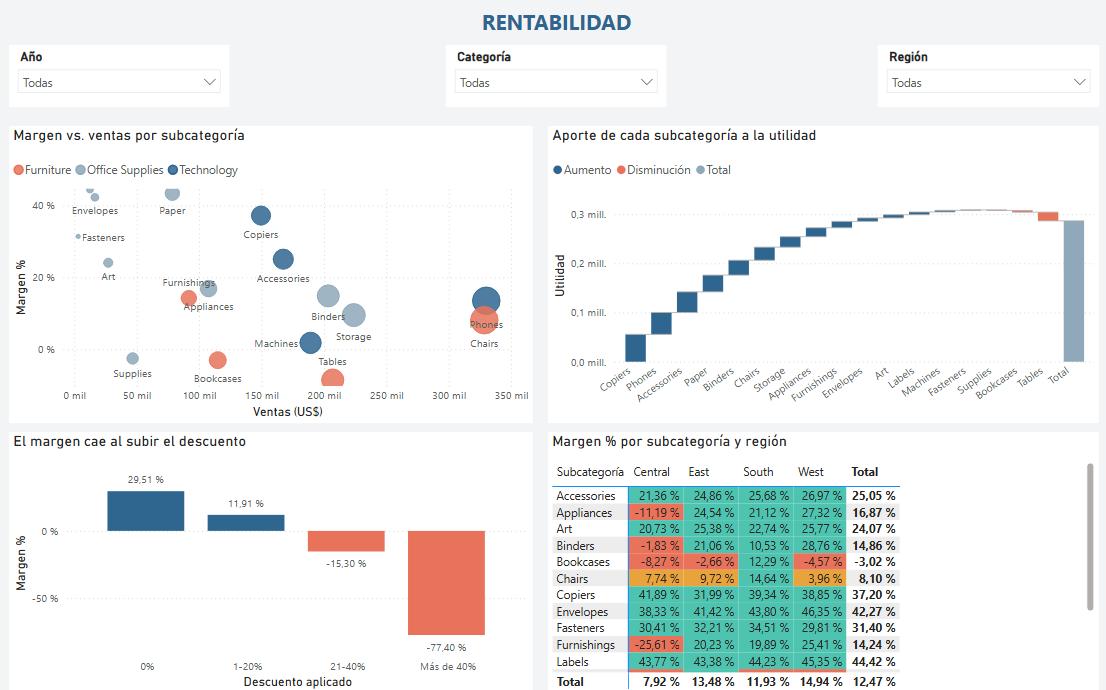

This screenshot's page, from the dashboard's own definition file:
{"tool":"powerbi","page":{"name":"Rentabilidad","canvas":[1280,800],"ordinal":1},"visuals":[{"type":"slicer","title":"Año","fields":{"Values":["dim_date.year"]},"box":[12.6,56.1,252.8,70.9],"z":0},{"type":"slicer","fields":{"Values":["dim_geography.region"]},"box":[1009.8,56.6,253.9,70.9],"z":1000},{"type":"slicer","fields":{"Values":["dim_product.category"]},"box":[514.4,56.6,252.8,70.9],"z":2000},{"type":"textbox","box":[456.4,8,368.3,48],"z":4000},{"type":"scatterChart","title":"Margen vs. ventas por subcategoría","fields":{"Category":["dim_product.sub_category"],"Series":["dim_product.category"],"Size":["_Medidas.Ventas"],"X":["_Medidas.Ventas"],"Y":["_Medidas.Margen %"]},"box":[12.6,149.2,601.4,340.9],"z":4001},{"type":"waterfallChart","title":"Aporte de cada subcategoría a la utilidad","fields":{"Category":["dim_product.sub_category"],"Y":["_Medidas.Utilidad"]},"box":[631.3,149.2,632.4,340.9],"z":4002},{"type":"clusteredColumnChart","title":"El margen cae al subir el descuento","fields":{"Category":["fact_sales.Banda de Descuento"],"Y":["_Medidas.Margen %"]},"box":[13,500,601,300],"z":4003},{"type":"pivotTable","title":"Margen % por subcategoría y región","fields":{"Columns":["dim_geography.region"],"Rows":["dim_product.sub_category"],"Values":["_Medidas.Margen %"]},"box":[631,500,632,300],"z":4004}]}

Visuals, with their boxes in screenshot pixels (x1, y1, x2, y2), scaled from the page's 1280x800 canvas onto the 1106x690 screenshot:
"Año" slicer: [11,48,229,110]
slicer - dim_geography.region: [873,49,1092,110]
slicer - dim_product.category: [444,49,663,110]
textbox: [394,7,713,48]
"Margen vs. ventas por subcategoría" scatterChart: [11,129,531,423]
"Aporte de cada subcategoría a la utilidad" waterfallChart: [545,129,1092,423]
"El margen cae al subir el descuento" clusteredColumnChart: [11,431,531,689]
"Margen % por subcategoría y región" pivotTable: [545,431,1091,689]
